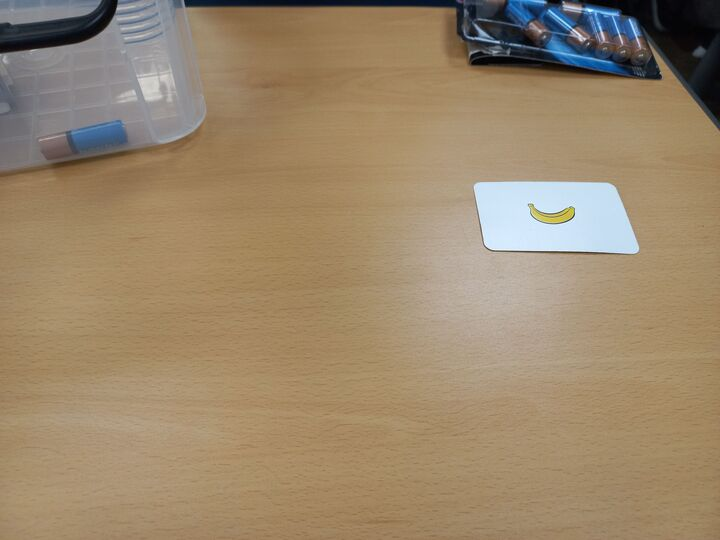banana1: (471, 178, 644, 257)
